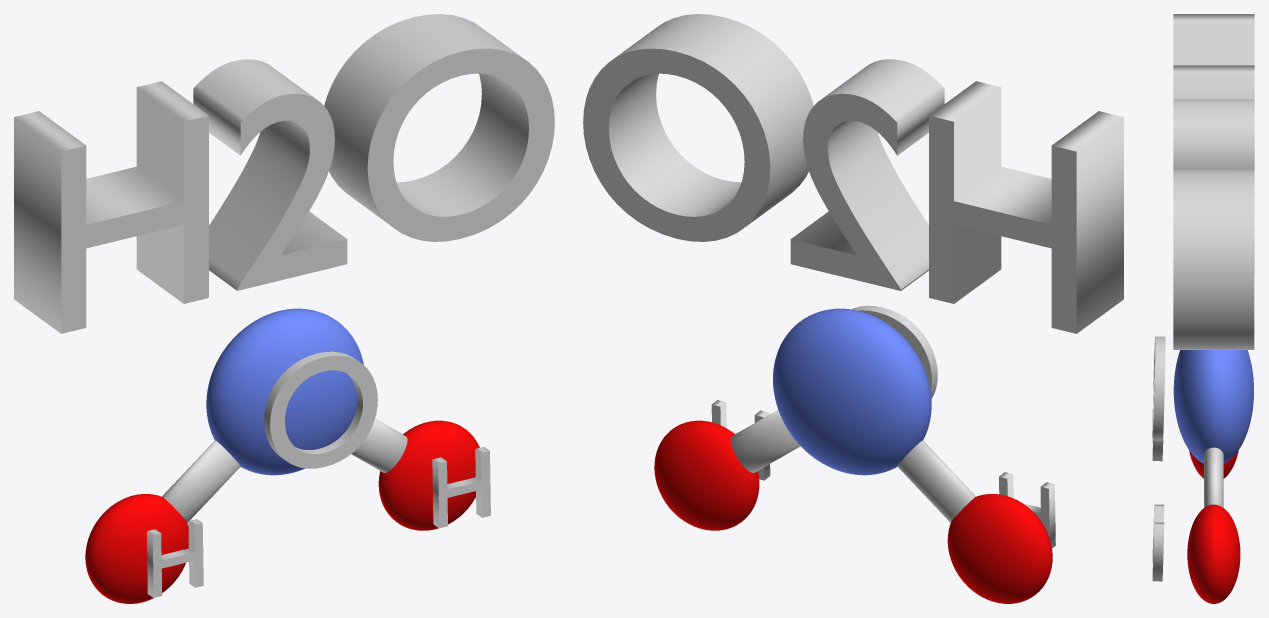
The model's file is molecula3d.glb.
3 renders of one model, left to right at view 1: azimuth 30°, elevation 25°; view 2: azimuth 150°, elevation 25°; view 3: azimuth 270°, elevation 25°, orthographic. The views are drawn at different scales.
Parts seen in each view (by area): view 1: Text, Object_2, Object_4, Text.001, Object_3, Text.002, Text.003; view 2: Text, Object_2, Object_4, Object_3, Text.001, Text.003; view 3: Text, Object_2, Object_4, Text.001, Object_3, Text.002, Text.003.
Part boxes in pixels (<box>): Text: <box>14,14,554,333</box>; Object_2: <box>206,308,363,475</box>; Object_4: <box>85,420,479,603</box>; Text.001: <box>264,351,377,468</box>; Object_3: <box>162,418,407,522</box>; Text.002: <box>432,447,490,528</box>; Text.003: <box>147,519,203,597</box>; Text: <box>583,14,1123,333</box>; Object_2: <box>773,308,931,475</box>; Object_4: <box>654,420,1052,603</box>; Object_3: <box>730,410,975,522</box>; Text.001: <box>852,305,937,398</box>; Text.003: <box>999,472,1055,548</box>; Text: <box>1173,14,1254,349</box>; Object_2: <box>1173,350,1253,463</box>; Object_4: <box>1187,450,1240,603</box>; Text.001: <box>1152,336,1165,440</box>; Object_3: <box>1204,447,1223,507</box>; Text.002: <box>1152,504,1164,581</box>; Text.003: <box>1152,408,1164,461</box>.
Bounding box in the file's own units: 1.93 × 1.85 × 0.4029.
